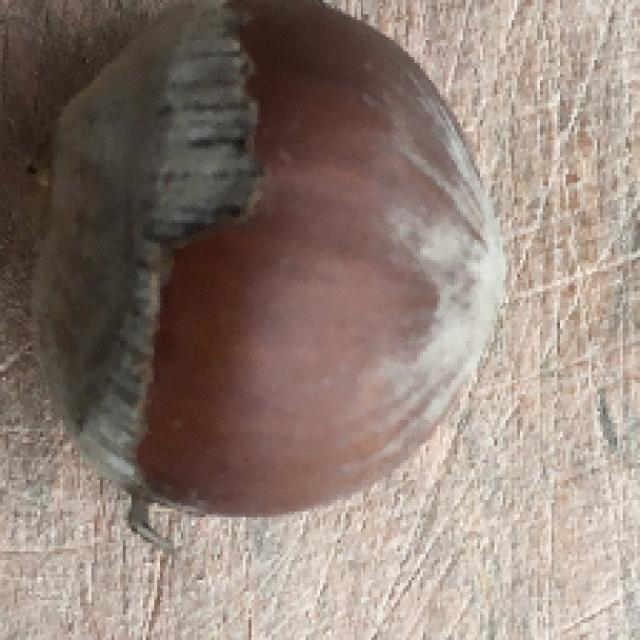damagedHazelnut: (0, 0, 514, 525)
